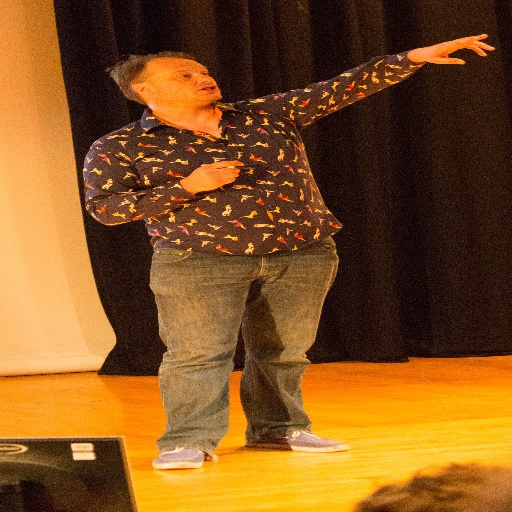hand: (403, 29, 500, 63), (178, 157, 245, 193)
